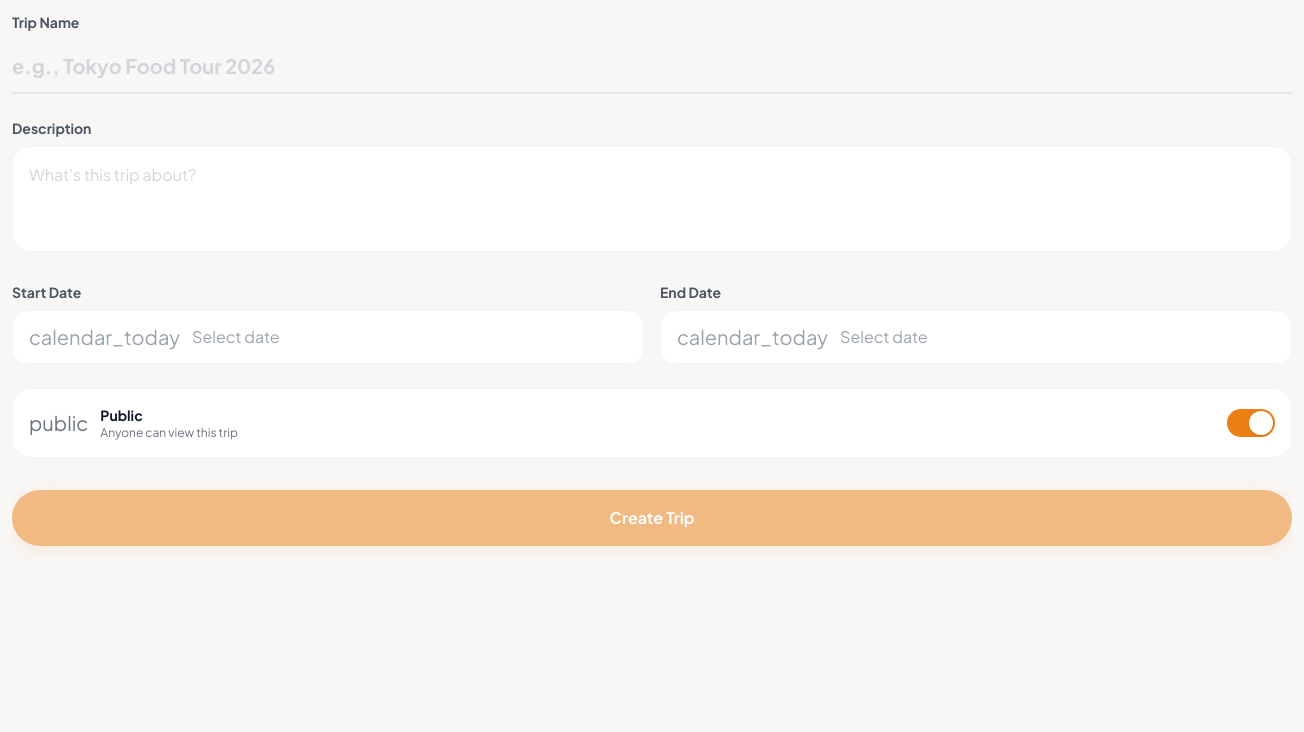
Test case: TripForm › shows error message on submission failure
Type "Test Trip" into the field labelled "Trip Name". click: (652, 67)
box: x1=12 y1=40 x2=1292 y2=94
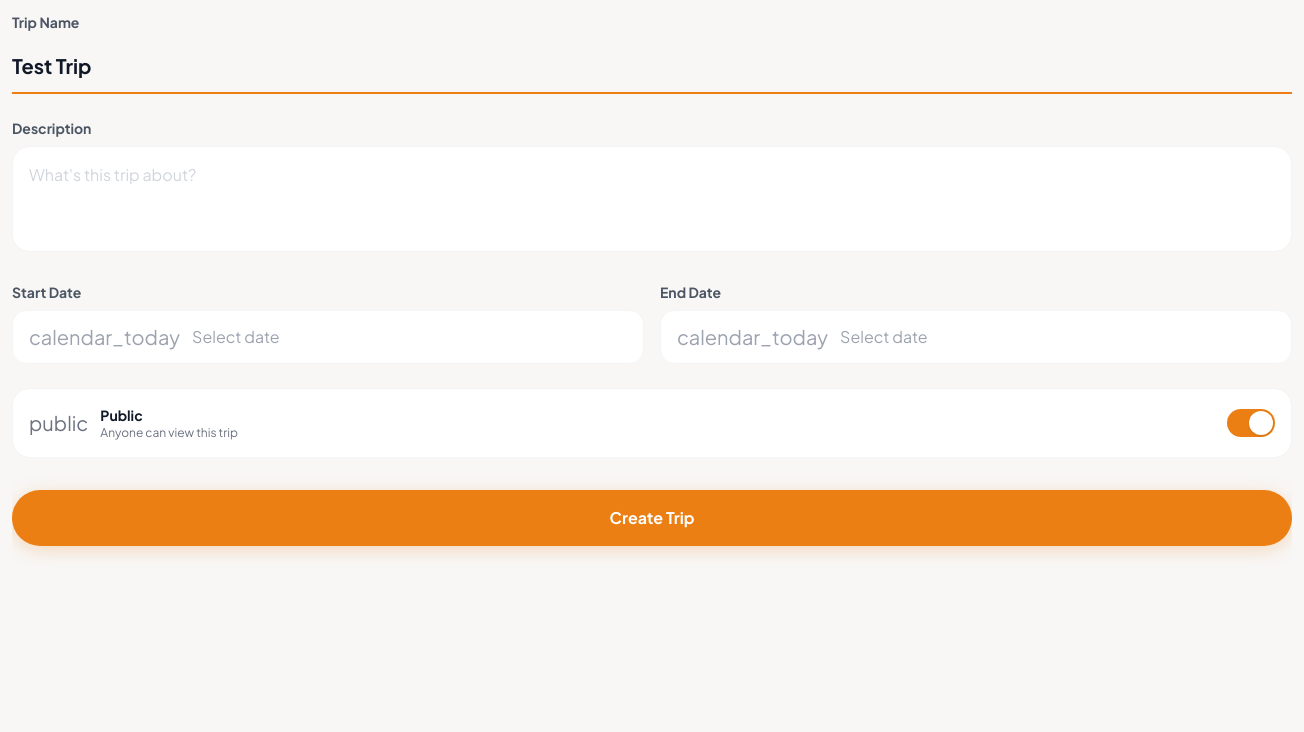
Click the button "Create Trip". click: (652, 518)
box: x1=12 y1=490 x2=1292 y2=546
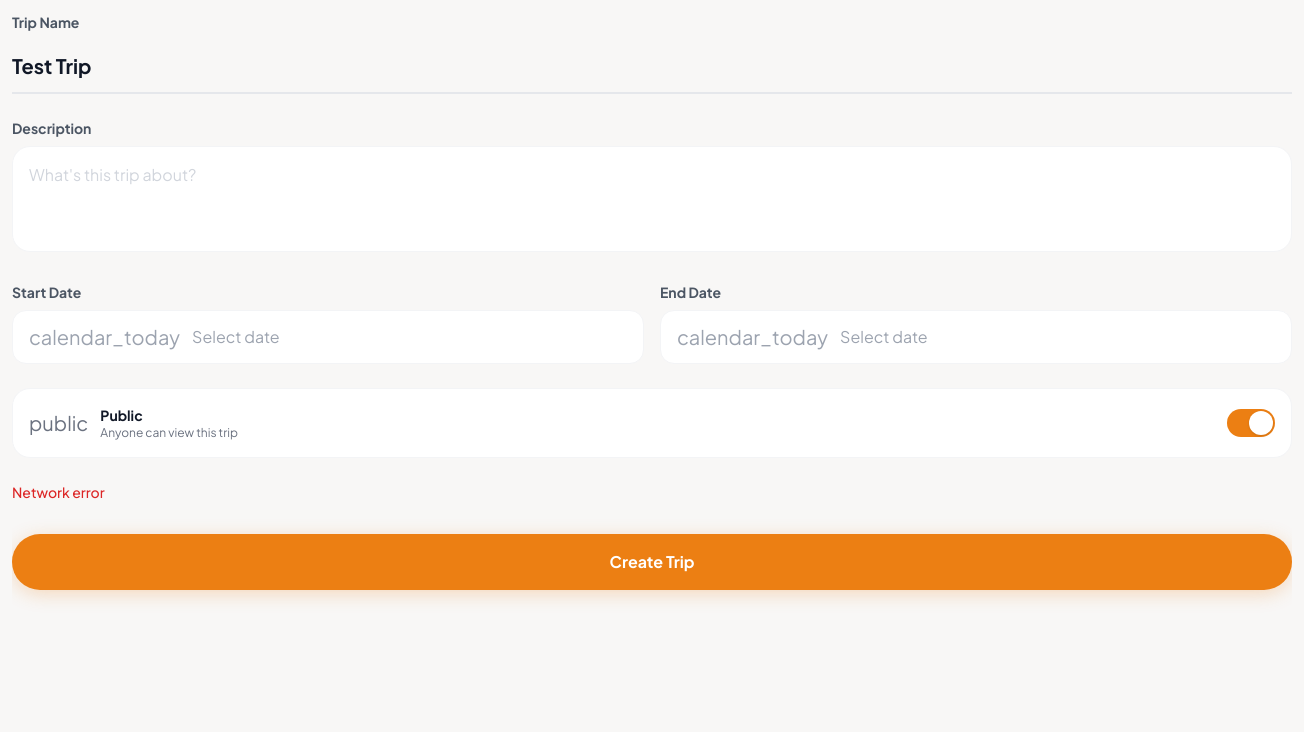
Expected: the message reads "Network error", x1=12 y1=483 x2=105 y2=501
